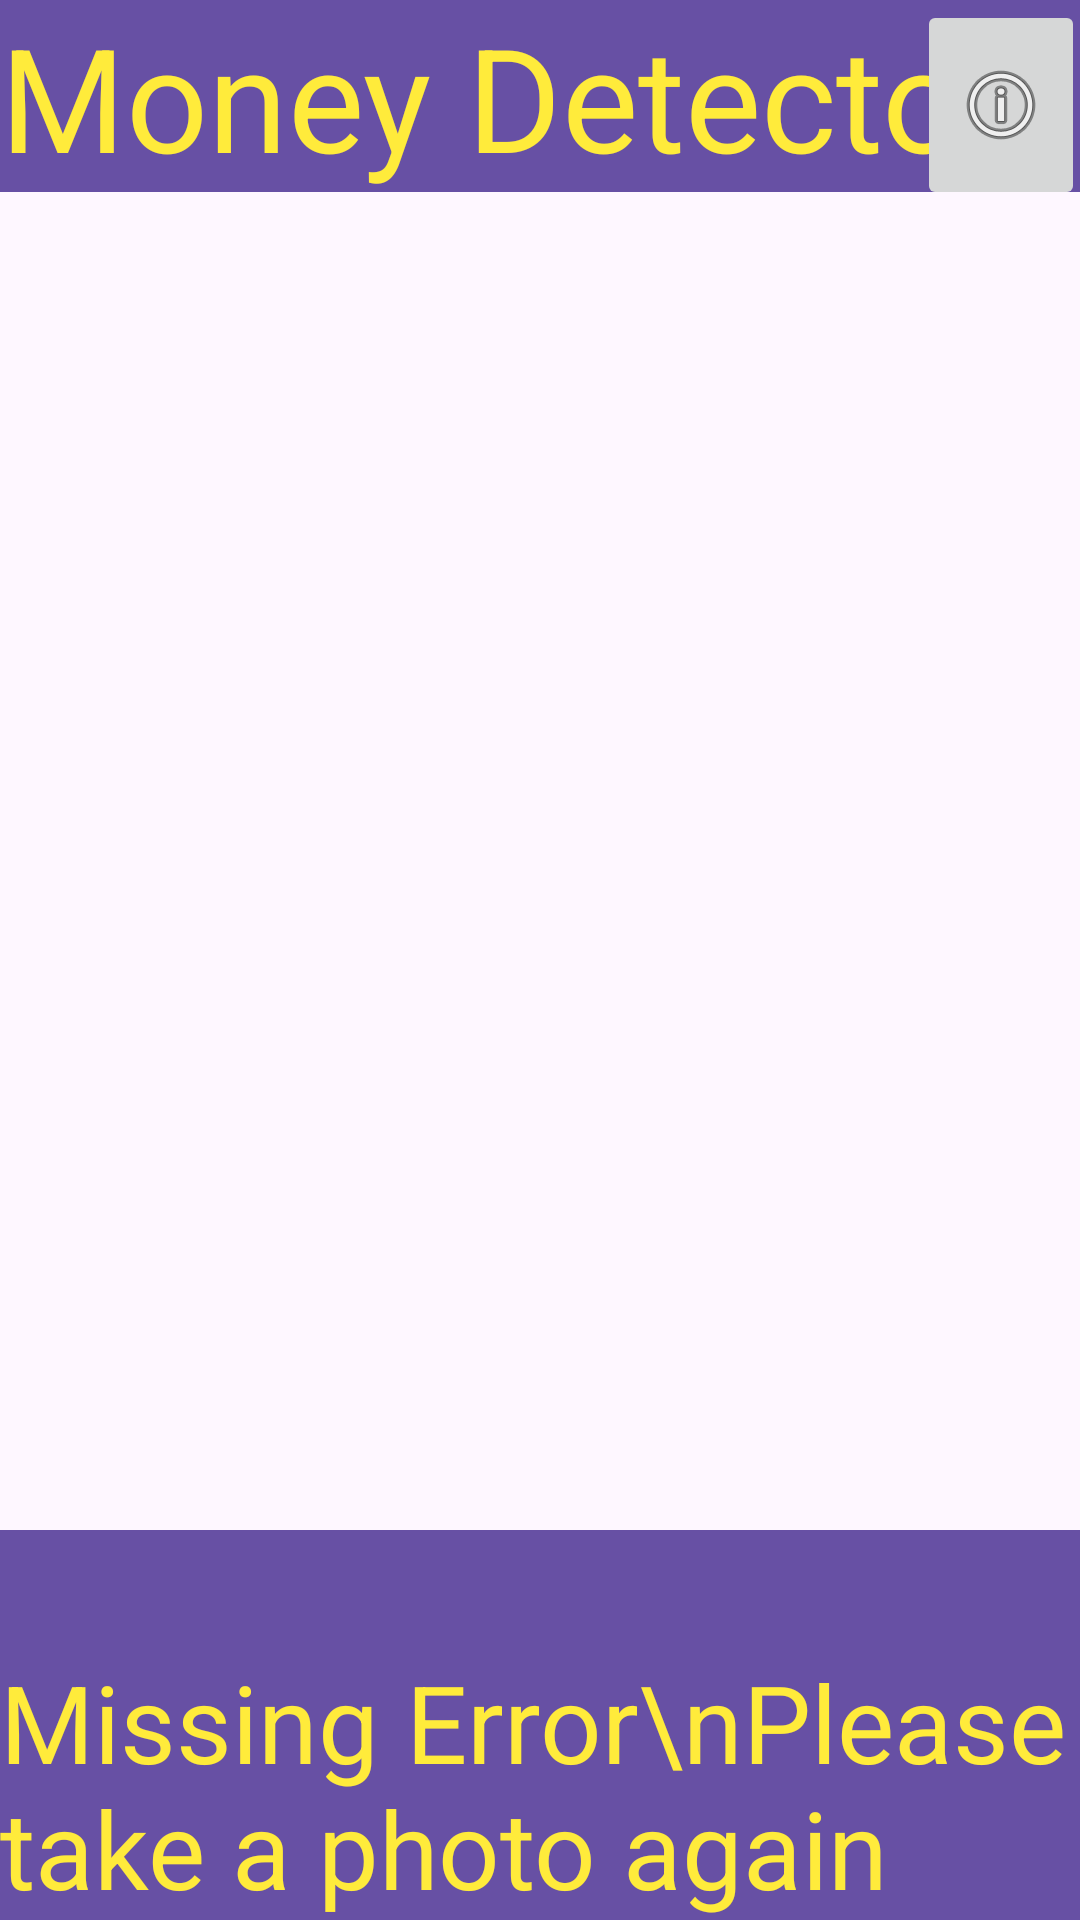

Where to tap for icons on this 1080x1920 app screen, as (x,y):
info details: (998,105)
